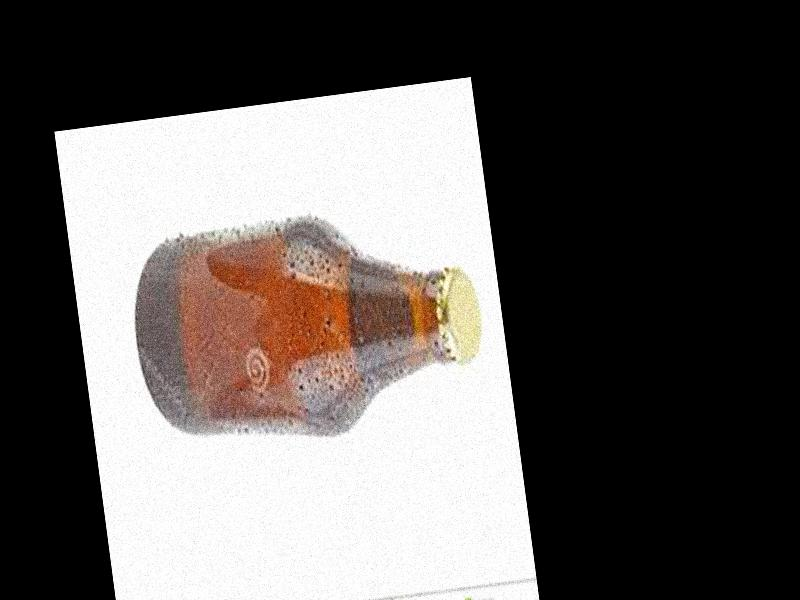Beer: (124, 195, 492, 458)
